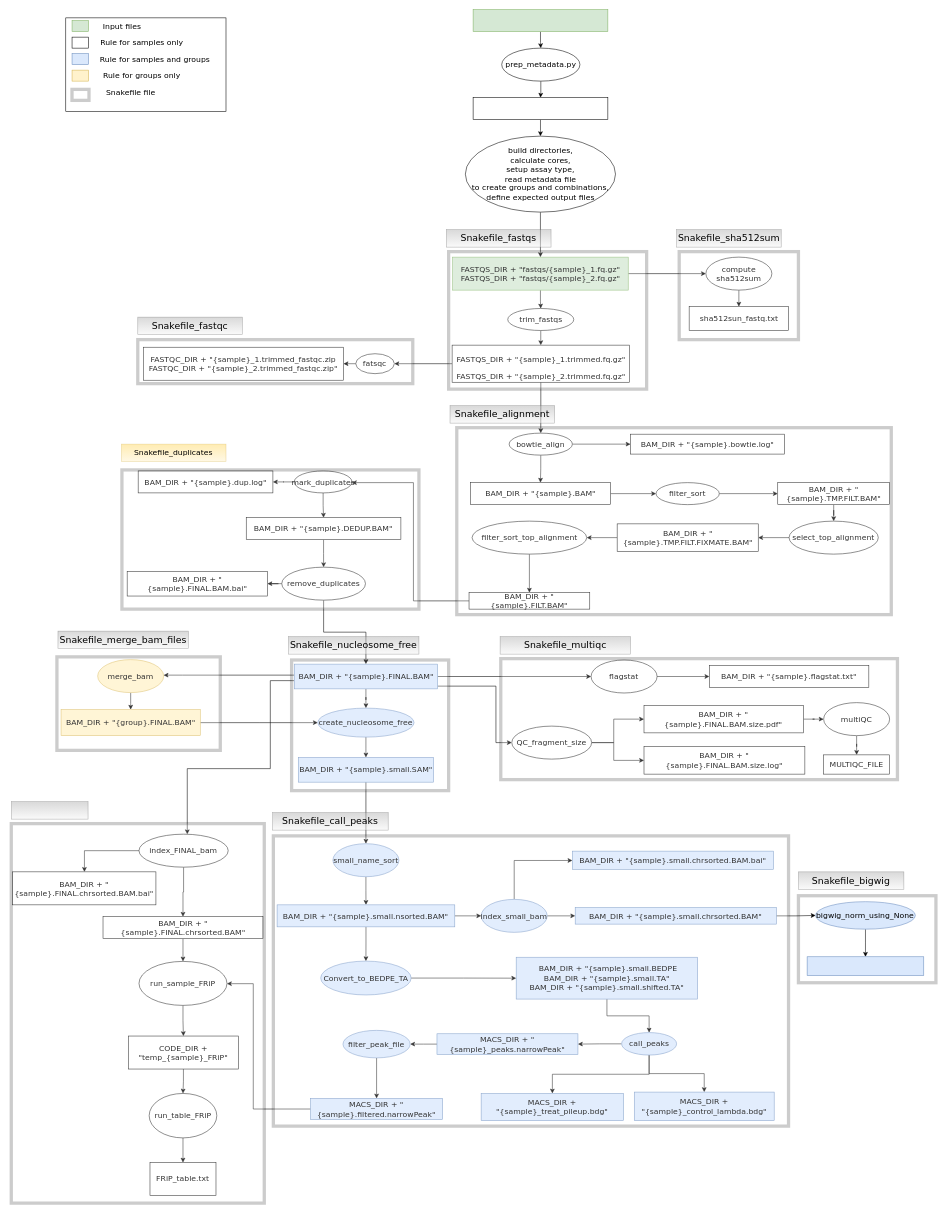
Image size: 947x1214. Some labels were removed from this diagram. The shapes that lost their labels are listed below. From the top down, each one's centre as x and y in pixels, then its label:
point (540, 20): metadata spreadsheet from LabGuru
point (540, 108): metadata file including groups
point (49, 810): Snakefile_FRiP
point (865, 966): COVERAGE_DIR + "{sample}_unsmoothed.bw"
